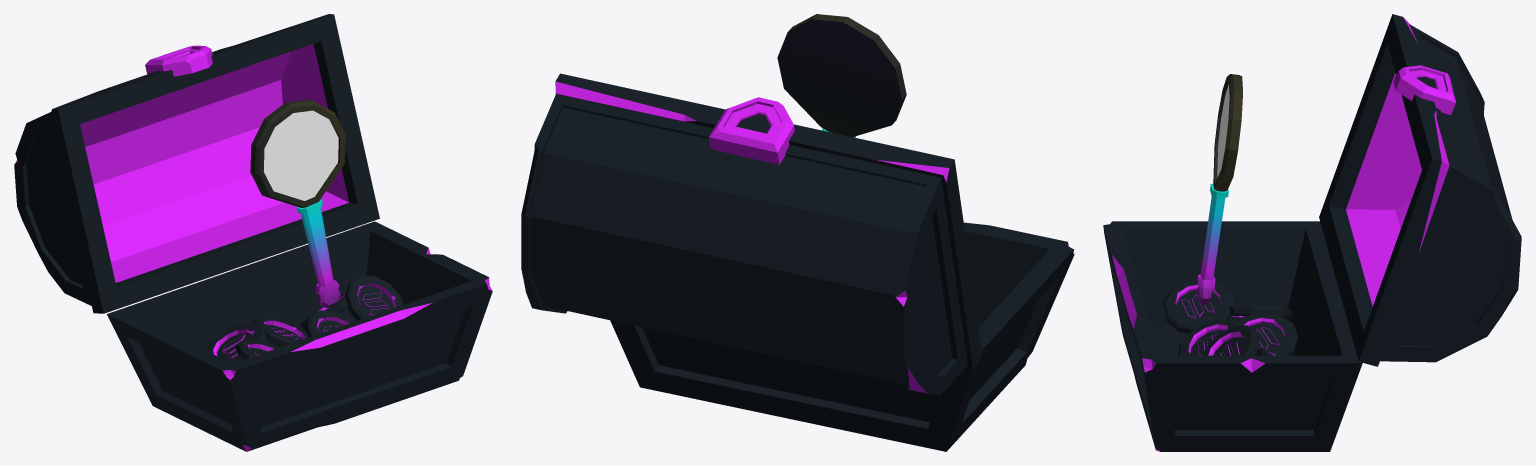
3 renders of one model, left to right at view 1: azimuth 30°, elevation 25°; view 2: azimuth 150°, elevation 25°; view 3: azimuth 270°, elevation 25°, orthographic. The views are drawn at different scales.
Visible parts, largest first — view 1: Plane.002, Circle.014, Circle.010, Circle.002, Circle.003, Circle.009, Circle.011; view 2: Plane.002, Circle.014; view 3: Plane.002, Circle.014, Circle.011, Circle.003, Circle.010, Circle.009, Circle.002.
Part boxes in pixels (box(x1,y1,x2,y2)): Plane.002: box(14, 14, 492, 451); Circle.014: box(250, 99, 345, 307); Circle.010: box(345, 275, 403, 320); Circle.002: box(207, 323, 267, 363); Circle.003: box(253, 316, 308, 346); Circle.009: box(305, 310, 354, 337); Circle.011: box(236, 339, 277, 359); Plane.002: box(521, 73, 1074, 451); Circle.014: box(777, 14, 906, 137); Plane.002: box(1103, 14, 1521, 451); Circle.014: box(1197, 74, 1242, 304); Circle.011: box(1163, 279, 1233, 333); Circle.003: box(1237, 312, 1298, 355); Circle.010: box(1202, 325, 1258, 355); Circle.009: box(1178, 319, 1239, 355); Circle.002: box(1229, 305, 1291, 318).
Size of the model in its own units: 4.91 by 4.31 by 5.09.
6 materials, 6 textured.
